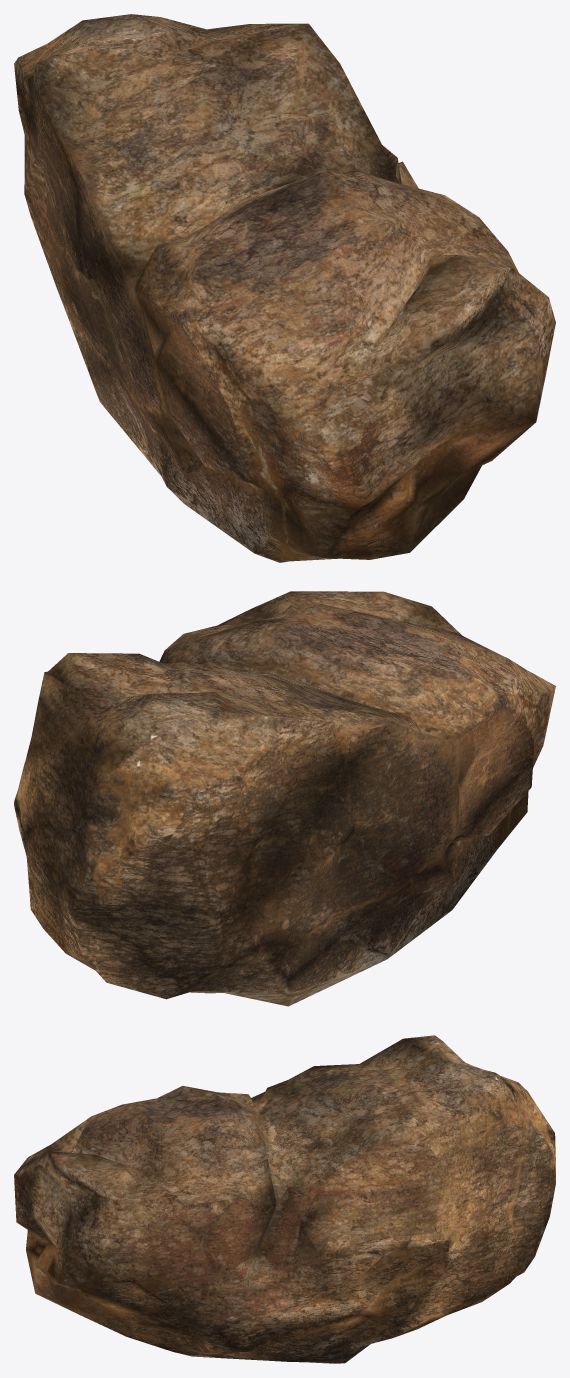
Rendered from namaqualand_boulder_06_low.glb.
The picture shows the model from 3 angles, top to bottom: view 1: azimuth 30°, elevation 25°; view 2: azimuth 150°, elevation 25°; view 3: azimuth 270°, elevation 25°; orthographic projection. The views are drawn at different scales.
Parts seen in each view (by area): view 1: namaqualand_boulder_06; view 2: namaqualand_boulder_06; view 3: namaqualand_boulder_06.
Boxes of the visible parts, x1,y1,x2,y2 form: namaqualand_boulder_06: (14,14,555,562); namaqualand_boulder_06: (14,591,555,1006); namaqualand_boulder_06: (14,1035,555,1363).
Size of the model in its own units: 0.6555 by 0.6387 by 1.21.
1 material, 1 textured.
